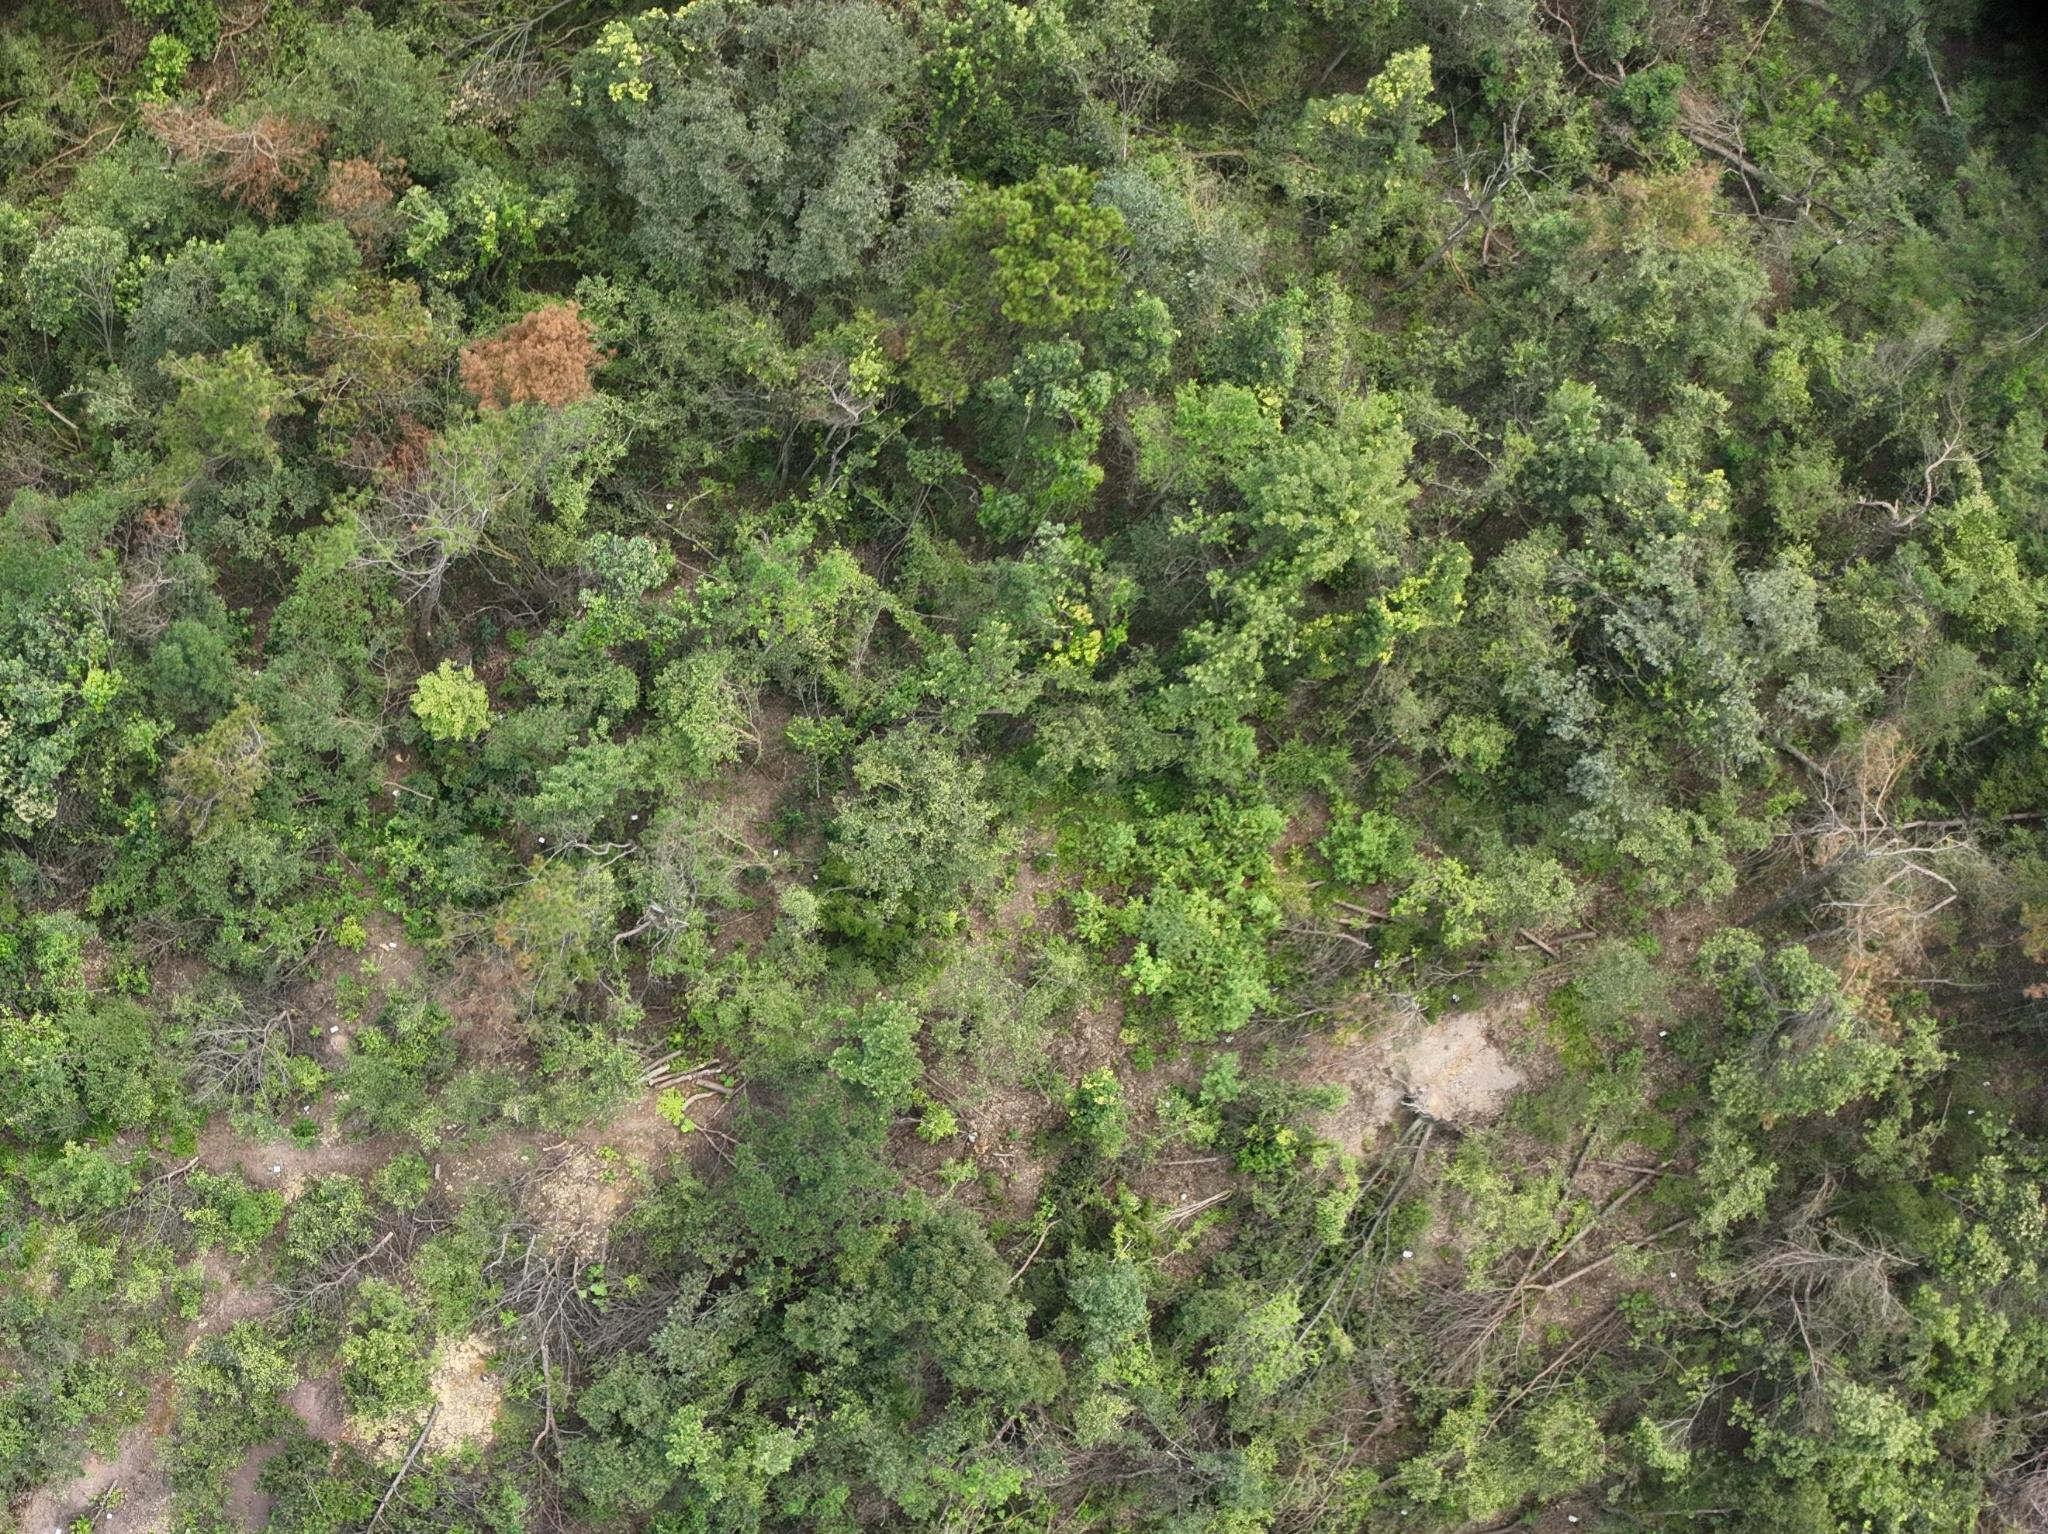heavy: (1806, 720, 1934, 1014), (171, 98, 390, 235), (456, 300, 601, 408)
